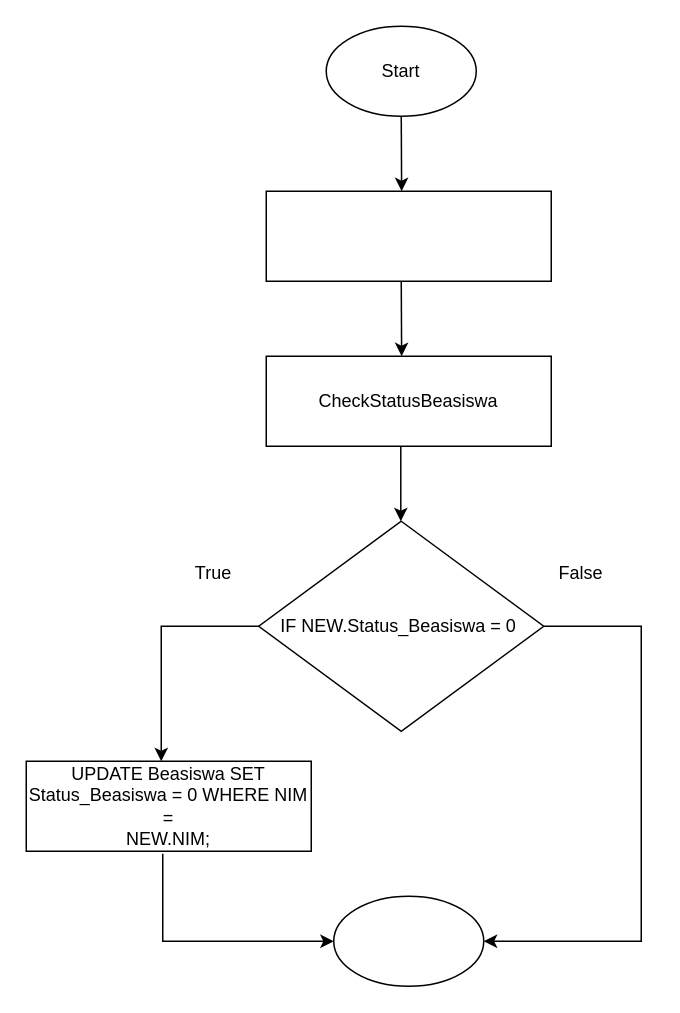
This 680x1013 diagram has some shape labels left out. The shapes that lost their labels are listed below. From the top down, each one's centre as x and y in pixels, then its label:
pixel 408 235: TRIGGER revoke_scholarship_on_exit
pixel 408 940: End
